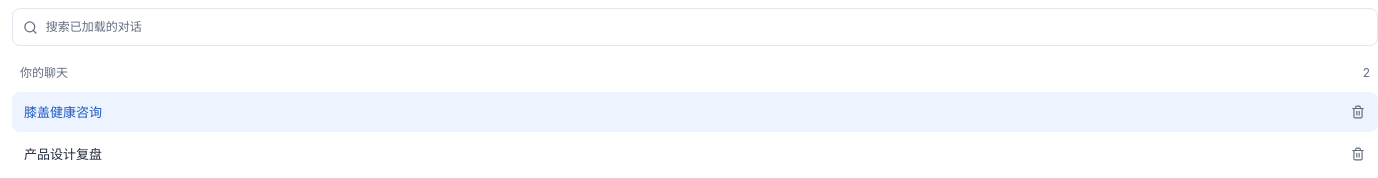
Scenario: chat history workspace › embeds real search and history without a second new-chat or close toolbar
The width and height of the screenshot is (1378, 178).
Step 1. Type "产品" into the search field → (706, 27), box [46, 18, 1367, 36]
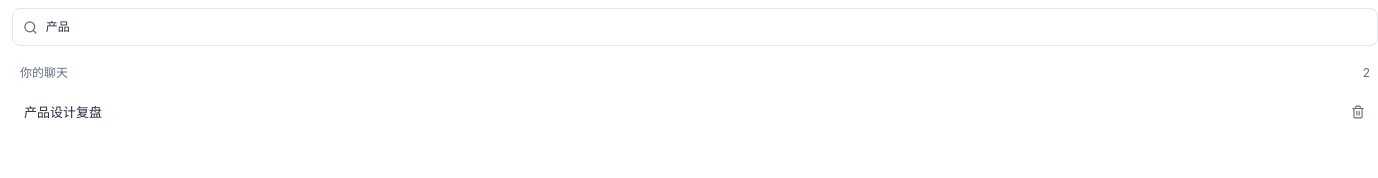
Expected: the button "产品设计复盘" is shown, [12, 92, 1344, 132]
Now the button "膝盖健康咨询" is gone
